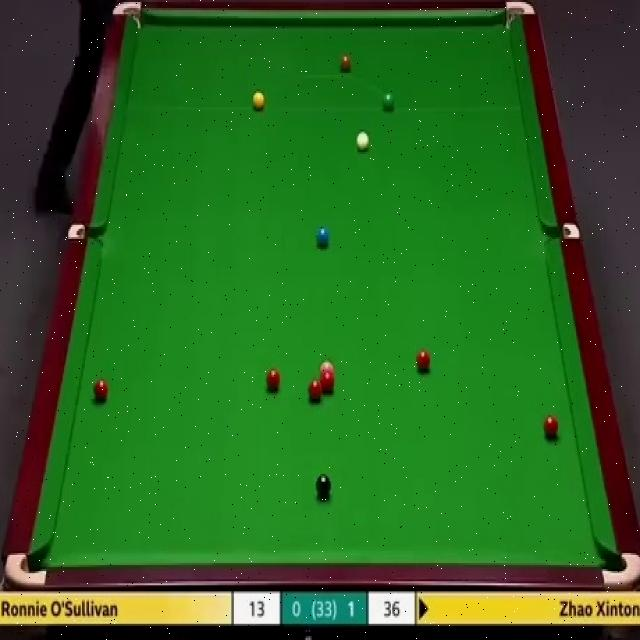black-ball: (315, 473, 332, 498)
blue-ball: (316, 226, 332, 248)
brown-ball: (338, 54, 352, 74)
green-ball: (381, 90, 395, 111)
pink-ball: (319, 361, 331, 380)
red-ball: (542, 414, 558, 441), (92, 380, 108, 402), (415, 349, 430, 372), (309, 379, 322, 404), (266, 371, 280, 392), (321, 376, 334, 398)
white-ball: (356, 130, 370, 150)
yellow-ball: (252, 92, 266, 112)
